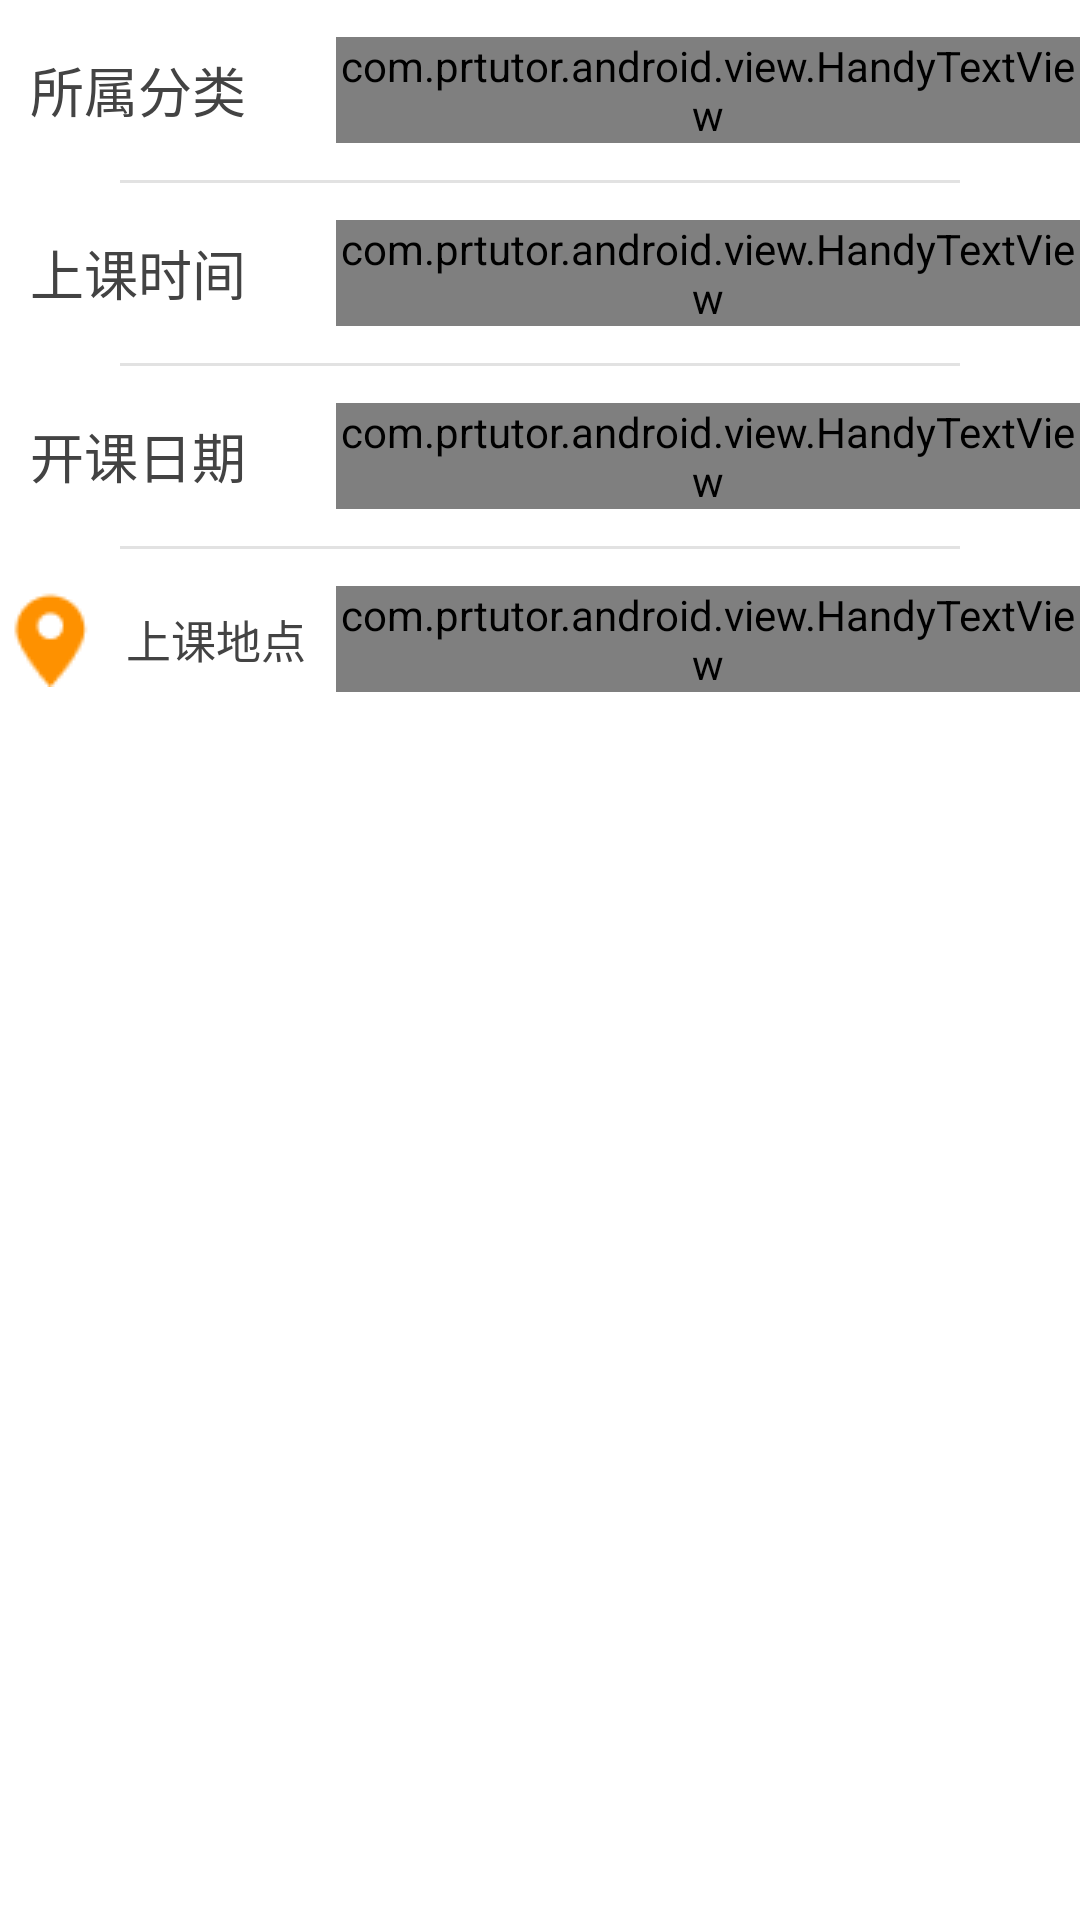

Icon click points for this 1080w x 1920h phone screenshot, format [x,y]:
location: [50,640]
